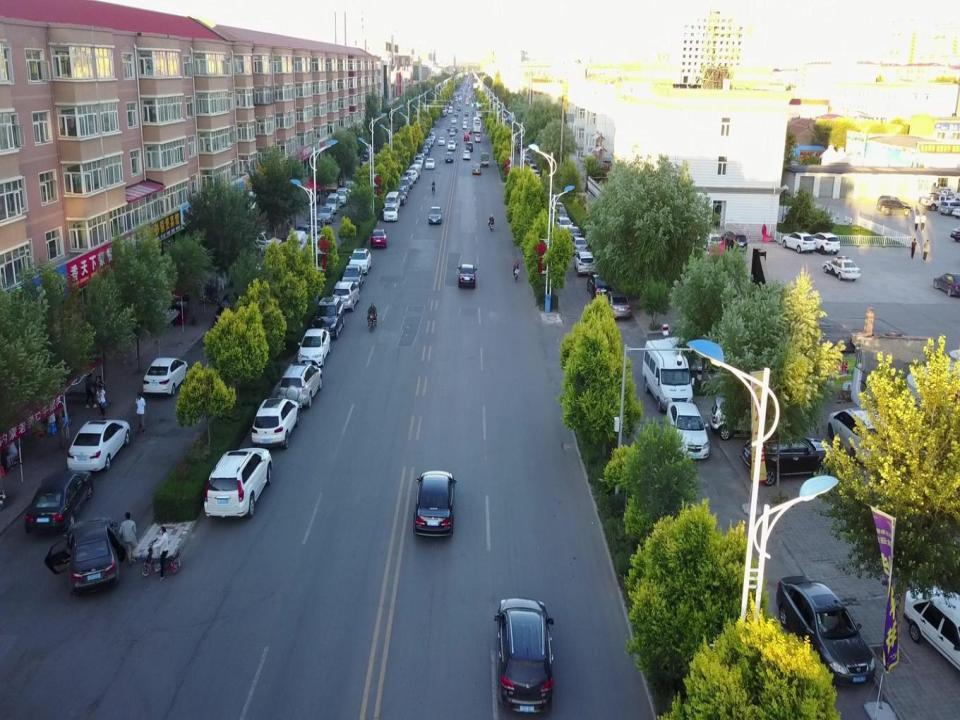bus: (471, 116, 481, 132)
car: (774, 574, 878, 685), (493, 598, 555, 714), (43, 515, 126, 597), (900, 579, 960, 678), (742, 432, 834, 487), (204, 447, 273, 519), (24, 470, 94, 536), (827, 407, 893, 465), (709, 393, 786, 441), (66, 419, 130, 475), (412, 469, 457, 540), (666, 401, 710, 460), (252, 397, 300, 451), (278, 364, 322, 408), (142, 357, 190, 397), (310, 296, 344, 342), (297, 329, 331, 369), (215, 290, 249, 328), (822, 254, 862, 281), (331, 280, 359, 312), (606, 290, 632, 321), (782, 231, 816, 254), (586, 273, 613, 300), (718, 230, 748, 254), (877, 197, 913, 216), (810, 232, 841, 254), (933, 272, 960, 296), (349, 247, 372, 275), (342, 264, 364, 292), (574, 251, 597, 277), (456, 264, 478, 287), (700, 231, 724, 252), (554, 216, 575, 236), (369, 228, 388, 248), (296, 223, 312, 246), (570, 237, 589, 256), (565, 226, 584, 244), (554, 206, 570, 226), (550, 202, 567, 220), (426, 206, 442, 224), (310, 218, 326, 236), (383, 203, 398, 222), (319, 205, 334, 224), (336, 187, 349, 208), (390, 189, 406, 206), (401, 170, 418, 186), (401, 176, 413, 189), (413, 156, 423, 168), (472, 162, 481, 175), (425, 158, 435, 169), (412, 161, 422, 172), (420, 141, 430, 152), (416, 153, 426, 163), (447, 140, 456, 151), (445, 151, 453, 163), (446, 125, 458, 133), (462, 150, 471, 160), (437, 136, 445, 146), (426, 137, 434, 147), (428, 132, 436, 142), (420, 146, 428, 155), (451, 135, 457, 145), (466, 127, 472, 135), (449, 129, 455, 136), (462, 122, 468, 129), (451, 118, 457, 123)
truck: (241, 230, 283, 253), (920, 190, 958, 213), (481, 152, 489, 167)
van: (642, 339, 694, 413), (284, 230, 308, 262), (938, 198, 960, 216), (384, 191, 400, 212), (326, 193, 340, 215), (397, 176, 410, 196), (407, 164, 421, 179), (465, 141, 473, 152), (424, 138, 432, 149), (474, 133, 482, 143), (463, 131, 469, 142), (462, 118, 468, 126)
